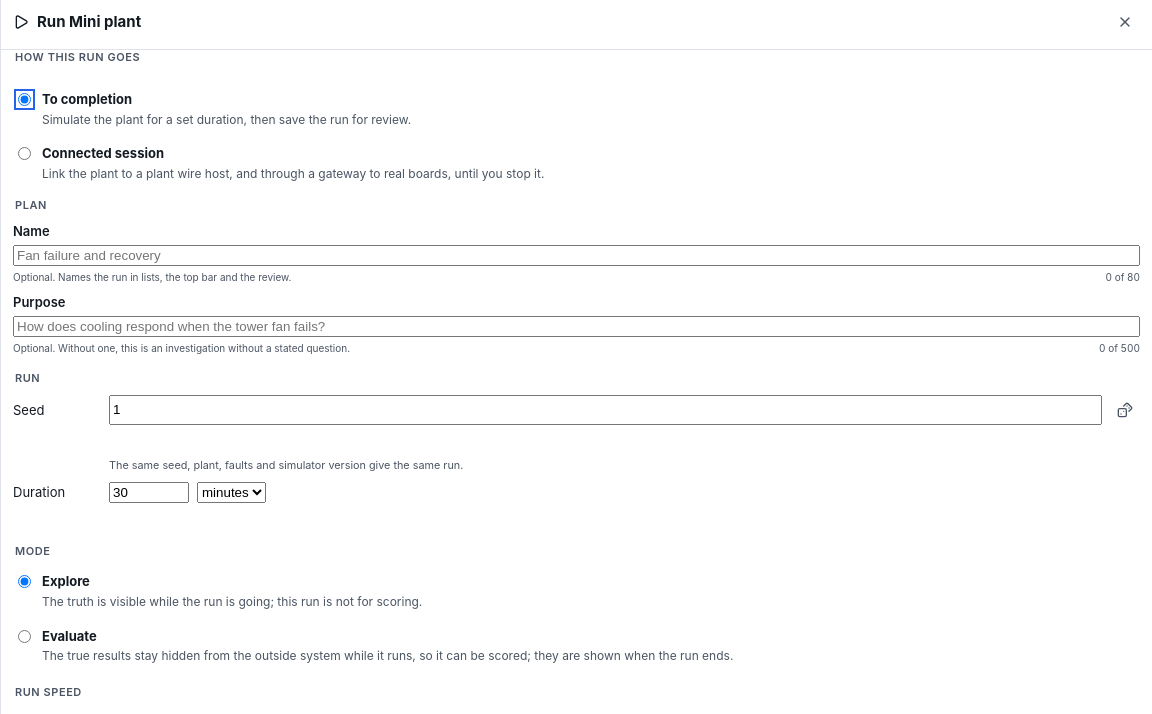
Scenario: the list in effect and the workspace default › says no command to a simulated device runs when the list is empty, and can save the empty list
Click the radio button labelled "Connected session". click: point(24, 154)
box: [18, 147, 31, 160]
(page scrolled)
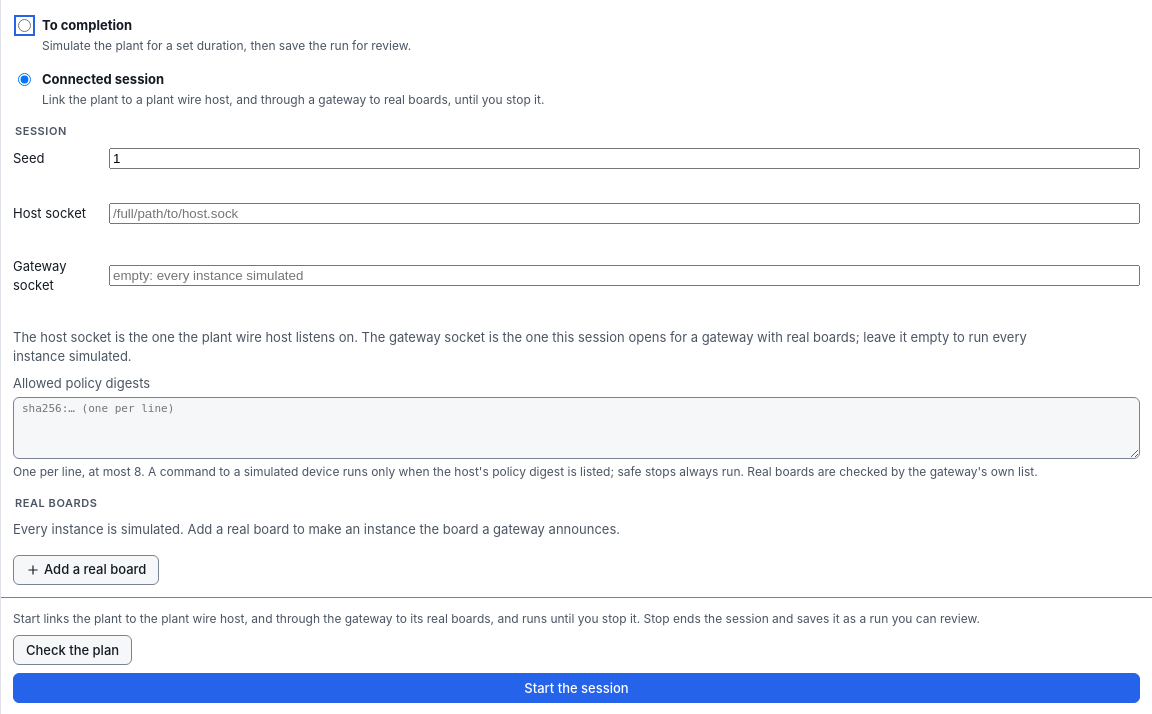
Click the button "Check the plan". click: point(73, 650)
box: [13, 635, 132, 665]
(page scrolled)
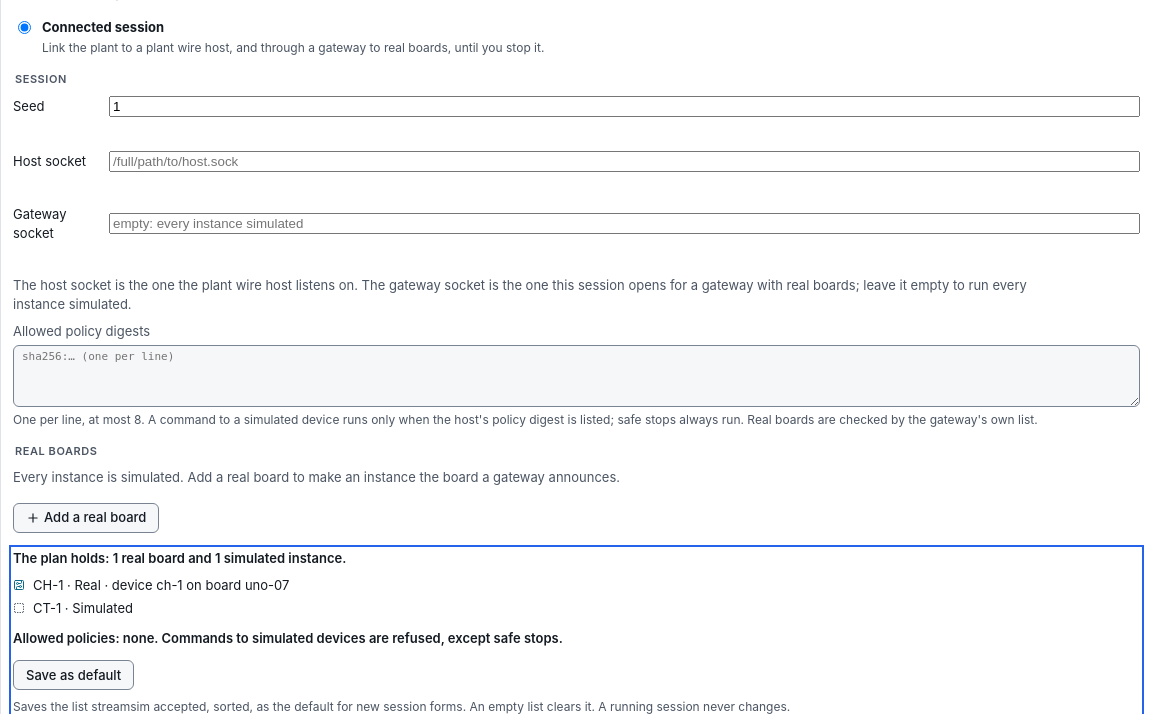
Result: the text "Allowed policies: none. Commands to simulated devices are refused" is shown at [13, 630, 563, 646]
Click the button "Save as default". click: point(74, 675)
box: [13, 660, 134, 690]
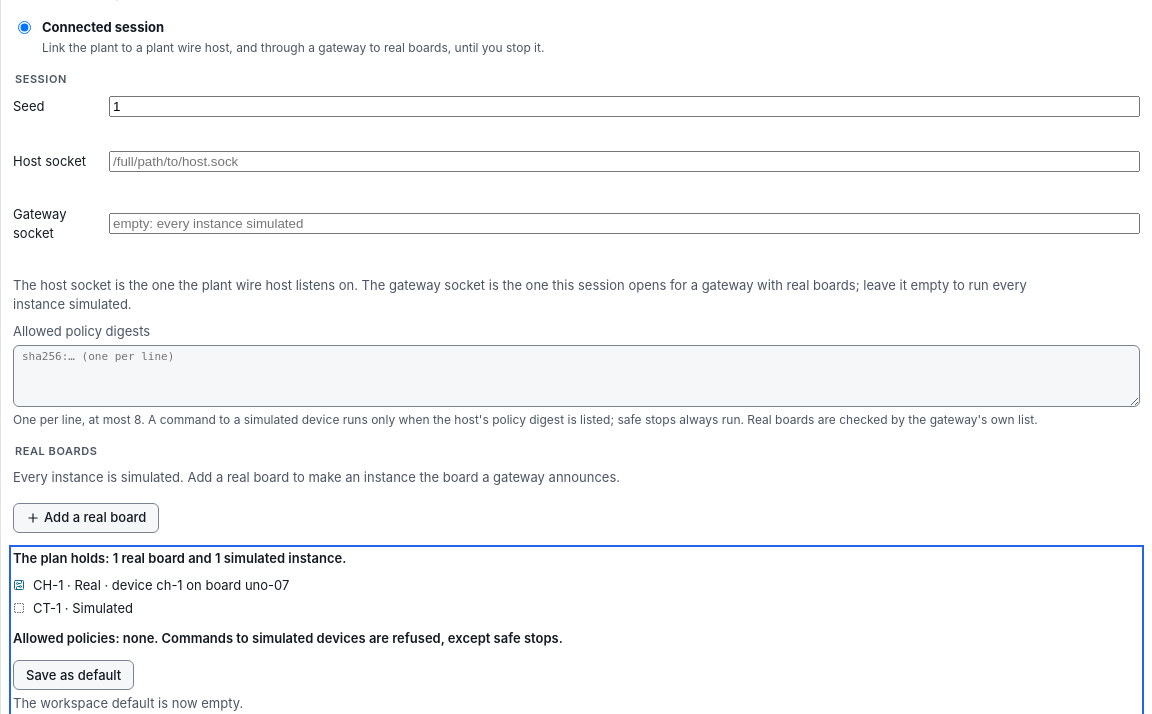
Result: the text "The workspace default is now empty." is shown at [13, 695, 243, 711]
